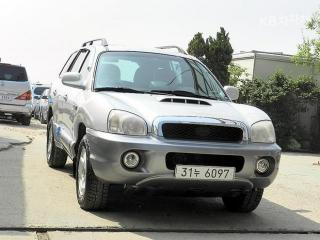0: (211, 168, 217, 179)
1: (188, 167, 194, 178)
3: (181, 167, 187, 177)
6: (204, 168, 211, 178)
7: (223, 169, 230, 179)
9: (217, 169, 224, 178)
plate: (171, 161, 239, 186)
누: (194, 168, 200, 178)
